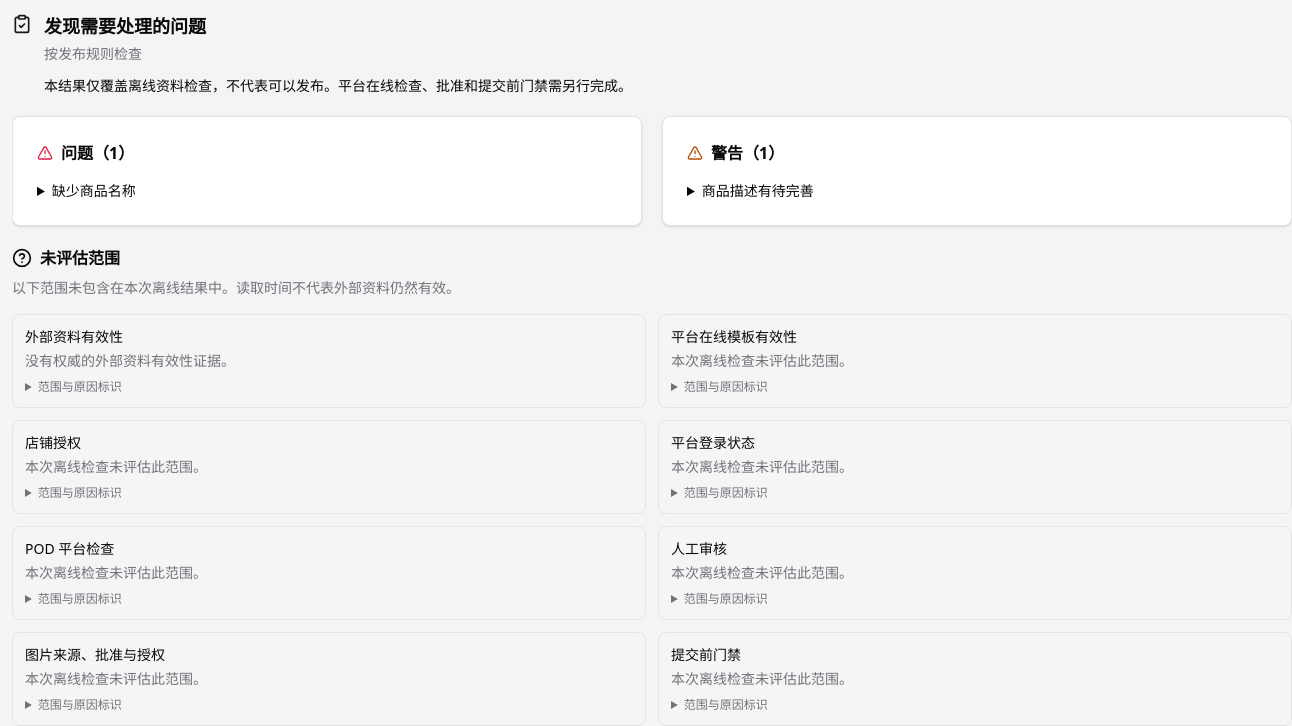
Test case: SHEIN diagnostic report (synthetic contract fixture) › separates blockers, warnings, checks and unassessed scope and expands literal details
Click the heading "缺少商品名称" at x=94, y=190, box [52,181,136,200]
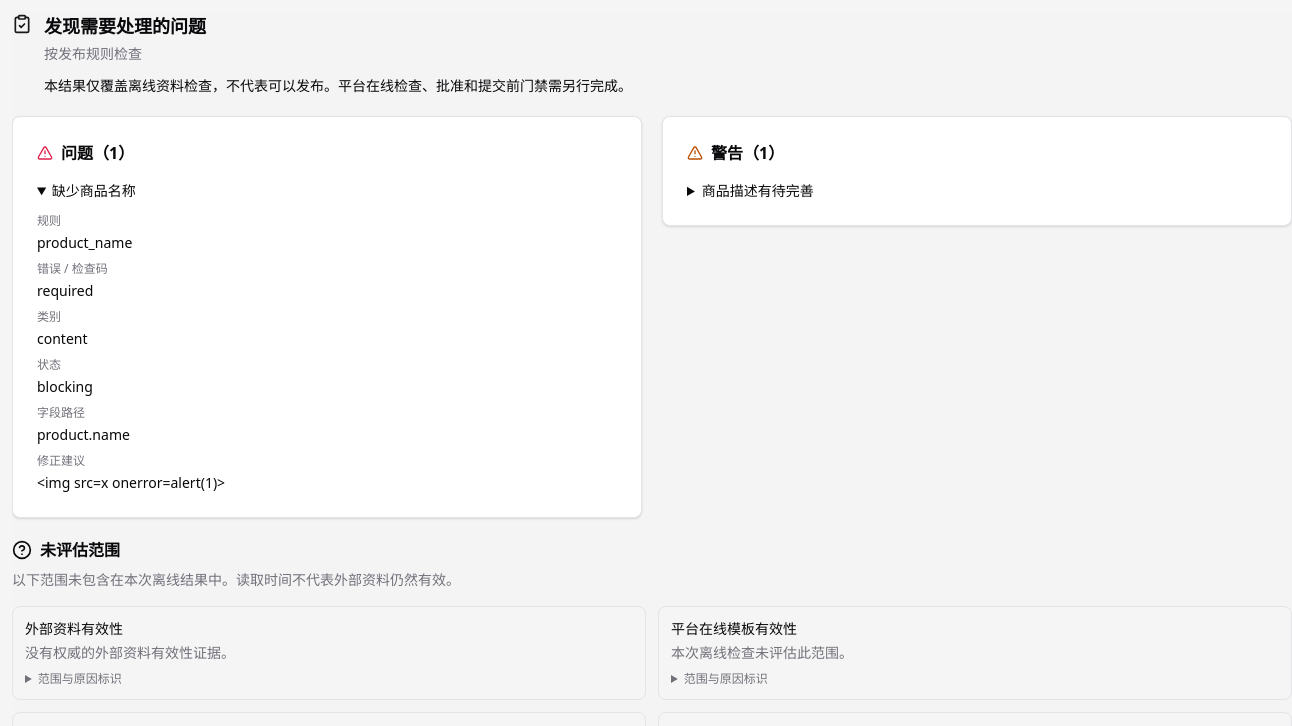
Expected: the element "警告（1）" is shown, [662,116,1291,226]
Result: the text "product.name" is shown at [37,425,130,444]
Result: the text "<img src=x onerror=alert(1)>" is shown at [37,473,225,492]
